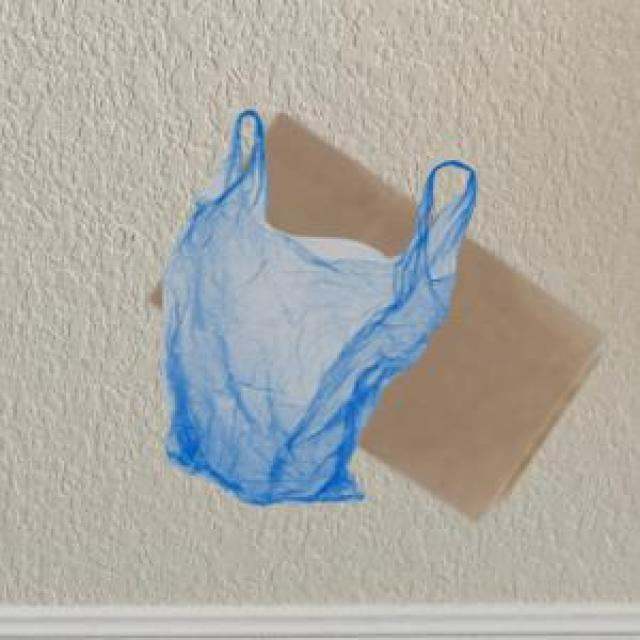paper: (147, 111, 600, 518)
